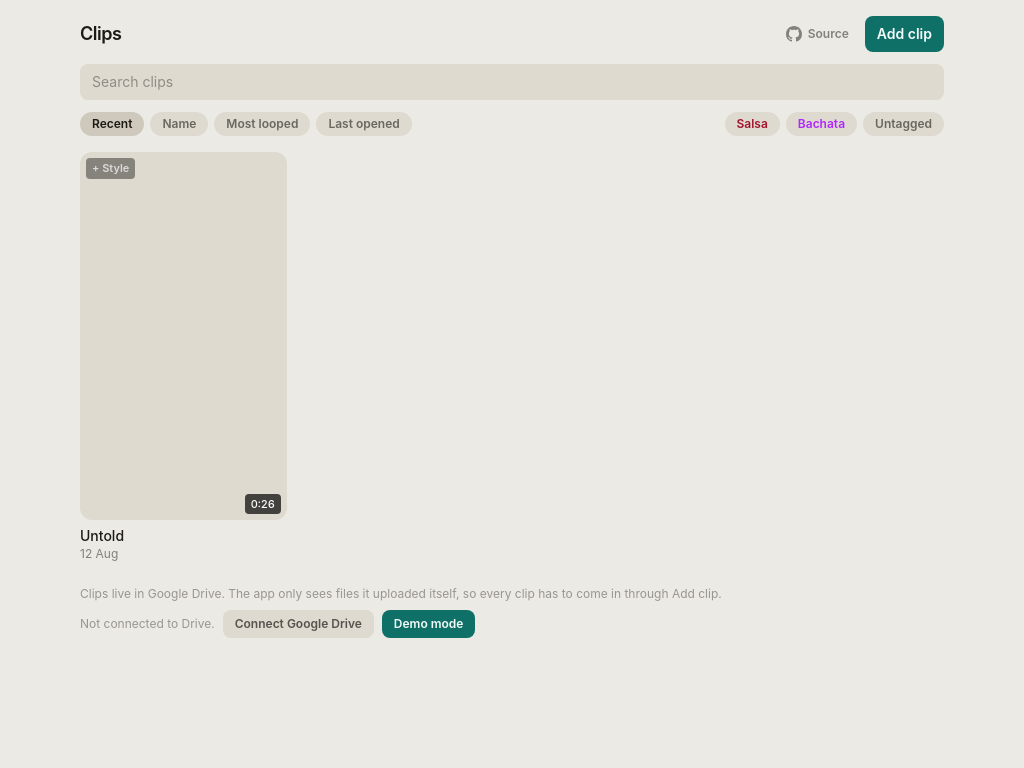
the style chips › says no untagged clips match when a search inside it finds none
The width and height of the screenshot is (1024, 768).
Click the button "Untagged".
click(904, 124)  # box [863,112,944,136]
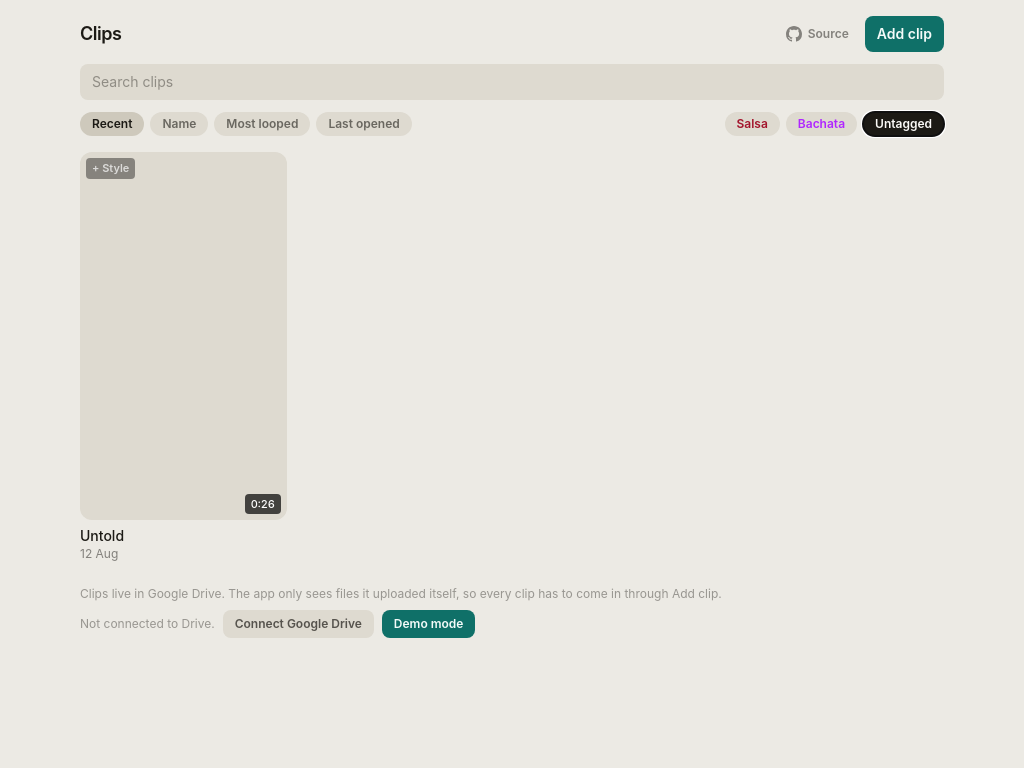
Type "shuffle" into the search field labelled "Search clips".
click(512, 82); type("shuffle")  # box [80,64,944,100]
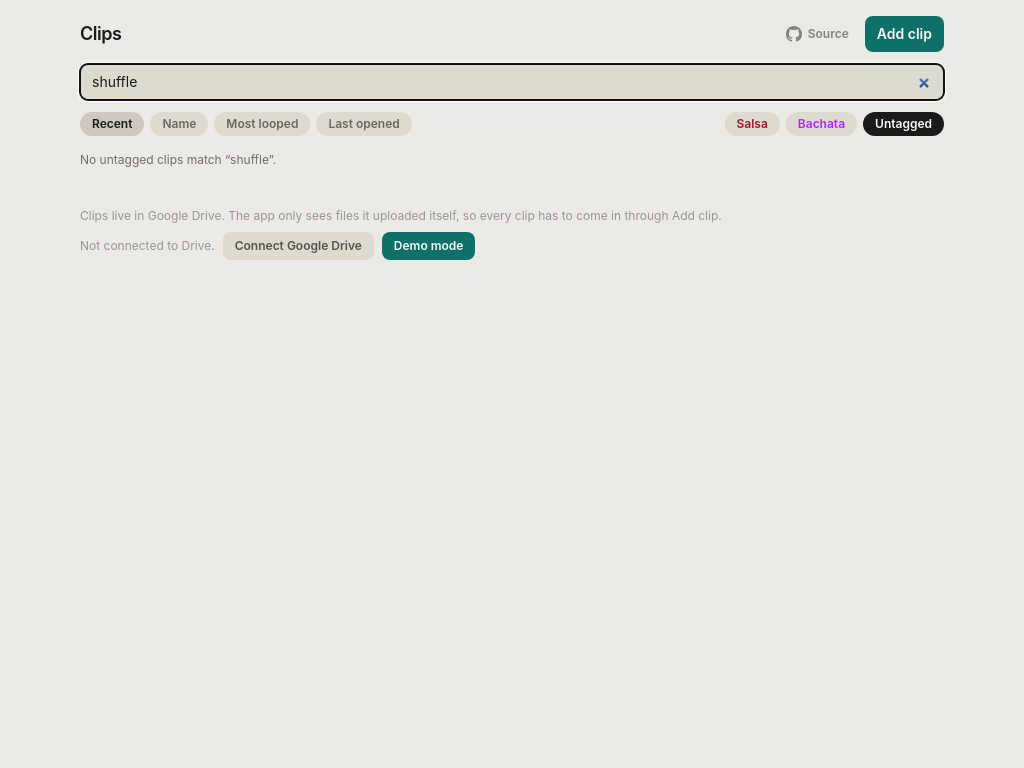
Now the message named "Search clips" reads "No untagged clips match “shuffle”.", box [80,152,276,167]
